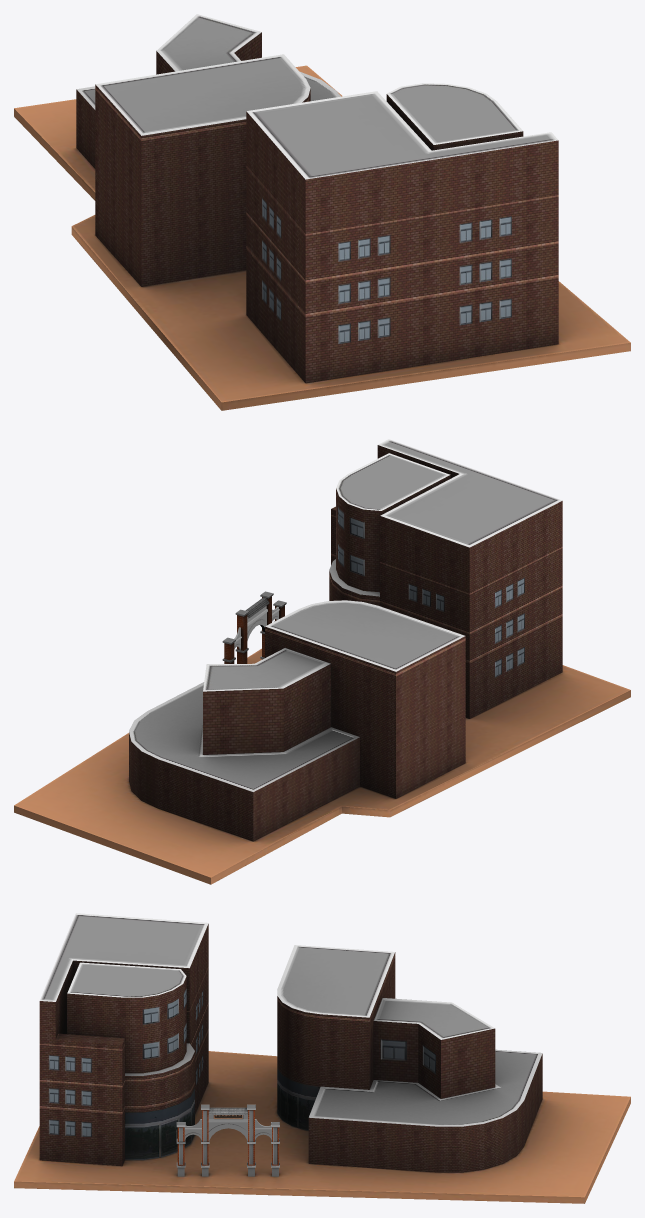
File: mswh.gltf
3 views of the same model, one above another, from view 1: azimuth 30°, elevation 25°; view 2: azimuth 150°, elevation 25°; view 3: azimuth 270°, elevation 25° (orthographic). The views are drawn at different scales.
Parts seen in each view (by area): view 1: pCube17, pCube15, pCube14, pCube16; view 2: pCube15, pCube17, pCube14, pCube16; view 3: pCube17, pCube15, pCube14, pCube16, pCylinder1, pCube1, pCube2.
Part boxes in pixels (<box>): pCube17: <box>246,83,558,383</box>; pCube15: <box>76,54,340,286</box>; pCube14: <box>14,65,630,410</box>; pCube16: <box>156,14,261,74</box>; pCube15: <box>129,600,465,841</box>; pCube17: <box>329,439,562,718</box>; pCube14: <box>14,648,630,884</box>; pCube16: <box>203,648,331,754</box>; pCube17: <box>39,913,208,1166</box>; pCube15: <box>277,945,542,1172</box>; pCube14: <box>14,1051,630,1203</box>; pCube16: <box>373,998,495,1098</box>; pCylinder1: <box>208,1115,247,1140</box>; pCube1: <box>248,1110,254,1176</box>; pCube2: <box>202,1110,208,1176</box>.
Size of the model in its own units: 11.4 by 5.67 by 19.03.
Materials: 1 (1 with a texture image).
